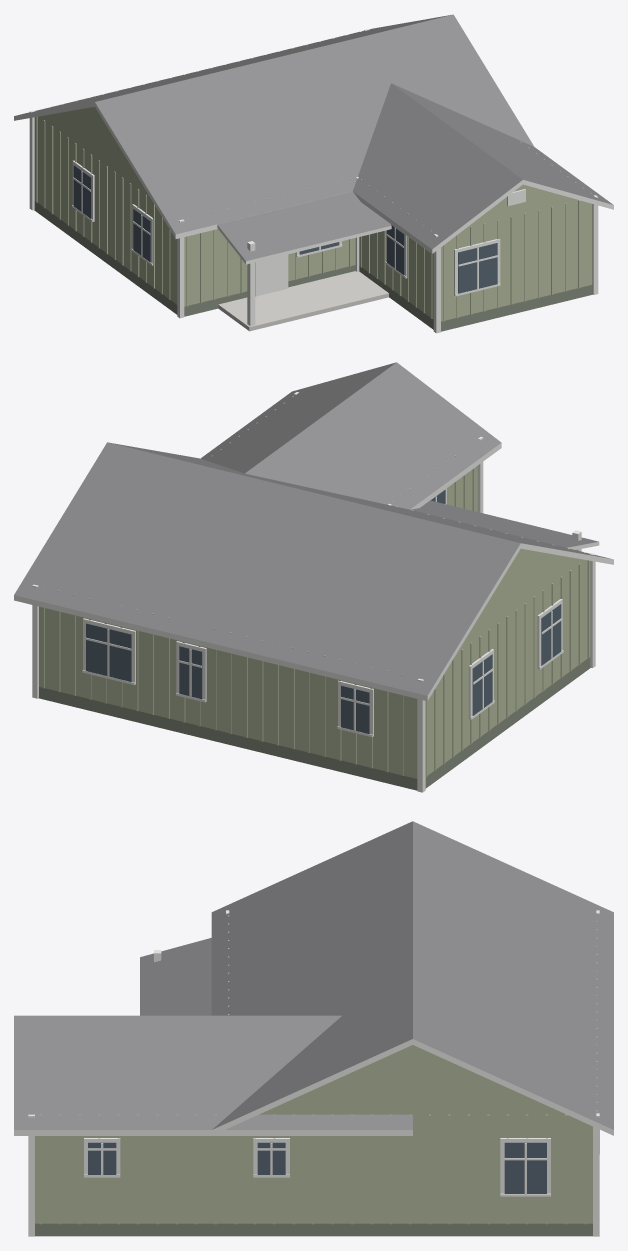
File: pistachio-sage.glb
3 renders of one model, top to bottom at view 1: azimuth 30°, elevation 25°; view 2: azimuth 150°, elevation 25°; view 3: azimuth 270°, elevation 25°, orthographic. The views are drawn at different scales.
Visible parts, largest first — view 1: The Pistachio (sage); view 2: The Pistachio (sage); view 3: The Pistachio (sage).
Boxes of the visible parts, x1=… form: The Pistachio (sage): x1=14, y1=14, x2=613, y2=333; The Pistachio (sage): x1=14, y1=362, x2=613, y2=792; The Pistachio (sage): x1=14, y1=821, x2=613, y2=1236.
Bounding box in the file's own units: 11.12 × 4.88 × 12.95.
